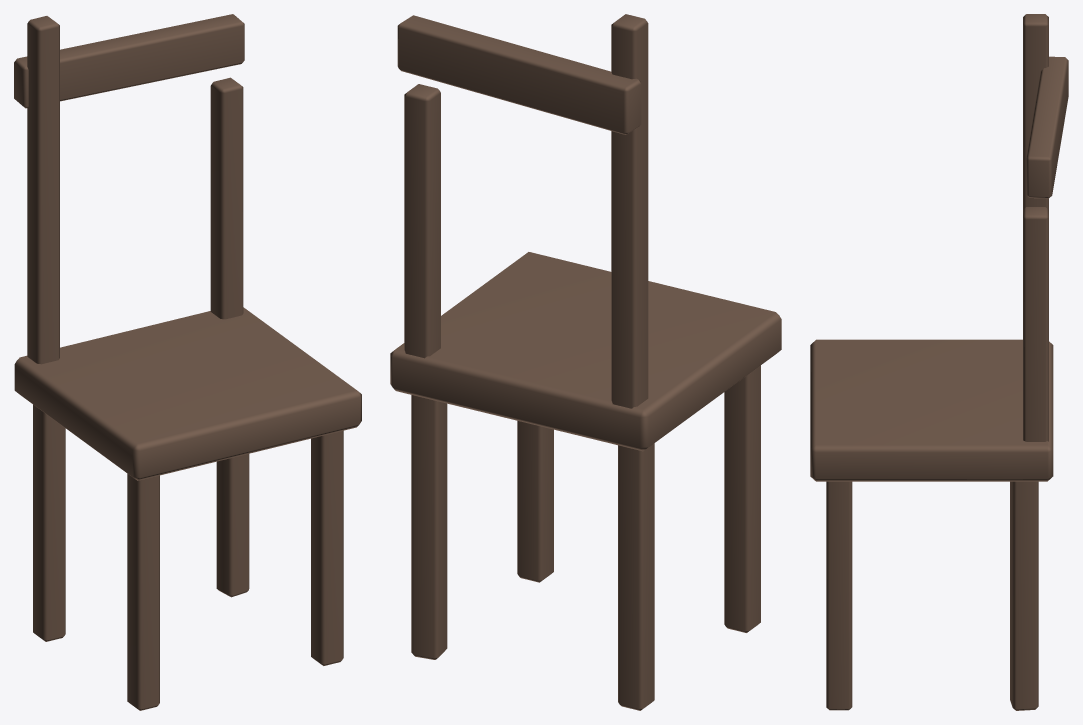
File: prop_broken_chair_01.glb
The picture shows the model from 3 angles, left to right: view 1: azimuth 30°, elevation 25°; view 2: azimuth 150°, elevation 25°; view 3: azimuth 270°, elevation 25°; orthographic projection. The views are drawn at different scales.
Parts seen in each view (by area): view 1: chair_seat.001, back_post_left.001, back_rail_tilted.001, back_post_right_broken.001, chair_leg_fl.001, chair_leg_fr.001, chair_leg_bl.001, chair_leg_br_bent.001; view 2: chair_seat.001, back_rail_tilted.001, back_post_left.001, back_post_right_broken.001, chair_leg_bl.001, chair_leg_br_bent.001, chair_leg_fl.001, chair_leg_fr.001; view 3: chair_seat.001, chair_leg_br_bent.001, chair_leg_fr.001, back_post_right_broken.001, back_rail_tilted.001, back_post_left.001.
Part boxes in pixels (box(x1,y1,x2,y2)): chair_seat.001: box(14, 307, 361, 480); back_post_left.001: box(27, 16, 59, 364); back_rail_tilted.001: box(14, 14, 244, 108); back_post_right_broken.001: box(210, 77, 243, 319); chair_leg_fl.001: box(127, 473, 159, 710); chair_leg_fr.001: box(311, 430, 343, 665); chair_leg_bl.001: box(33, 404, 65, 641); chair_leg_br_bent.001: box(216, 454, 249, 597); chair_seat.001: box(390, 252, 781, 451); back_rail_tilted.001: box(397, 15, 641, 134); back_post_left.001: box(611, 14, 648, 408); back_post_right_broken.001: box(404, 84, 440, 358); chair_leg_bl.001: box(618, 443, 654, 710); chair_leg_br_bent.001: box(411, 395, 447, 659); chair_leg_fl.001: box(724, 365, 760, 632); chair_leg_fr.001: box(517, 421, 553, 582); chair_seat.001: box(810, 339, 1053, 481); chair_leg_br_bent.001: box(1010, 481, 1038, 710); chair_leg_fr.001: box(826, 481, 852, 710); back_post_right_broken.001: box(1023, 207, 1048, 441); back_rail_tilted.001: box(1026, 56, 1068, 198); back_post_left.001: box(1023, 14, 1048, 209).
Bounding box in the file's own units: 0.45 × 1.14 × 0.4467.
